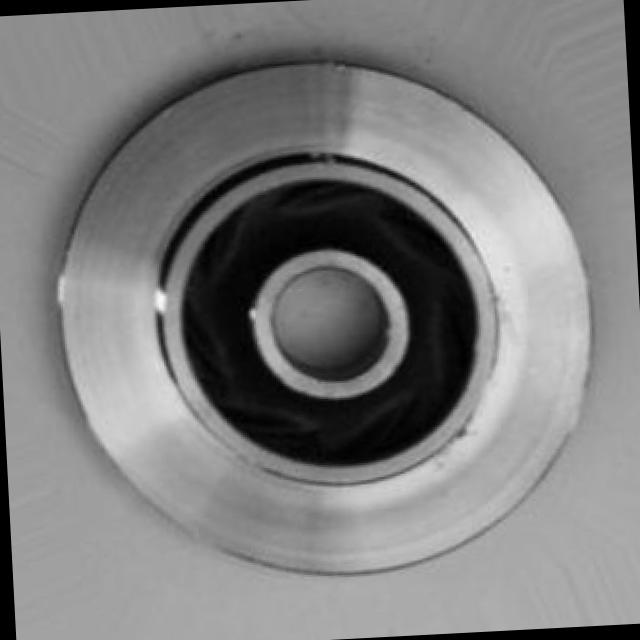Defect: (445, 424, 486, 448)
